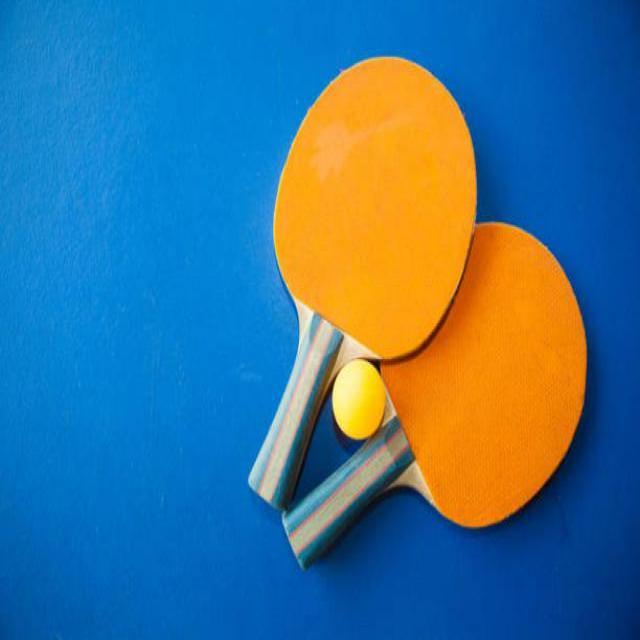oball: (331, 358, 385, 438)
